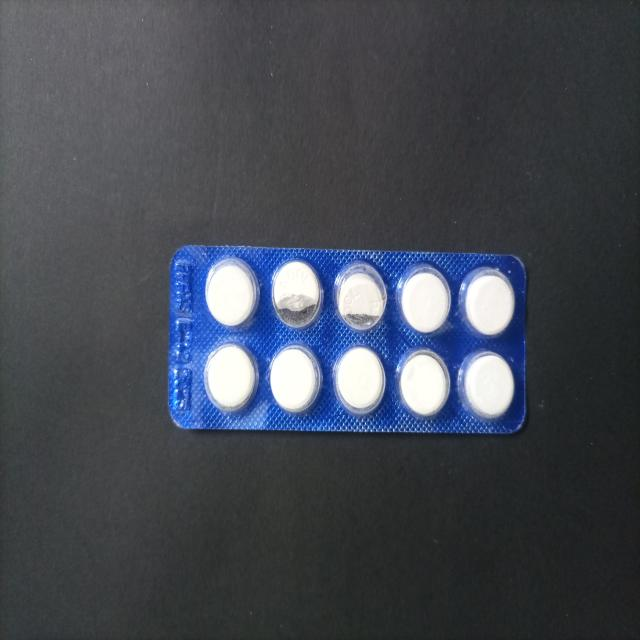defect: (267, 255, 328, 334), (332, 256, 390, 338)
